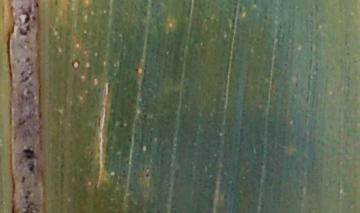tarspot: (22, 147, 41, 162), (18, 10, 30, 24), (18, 24, 30, 37), (24, 162, 36, 174), (33, 1, 41, 9), (133, 67, 140, 74), (31, 14, 37, 22), (143, 172, 150, 178)
